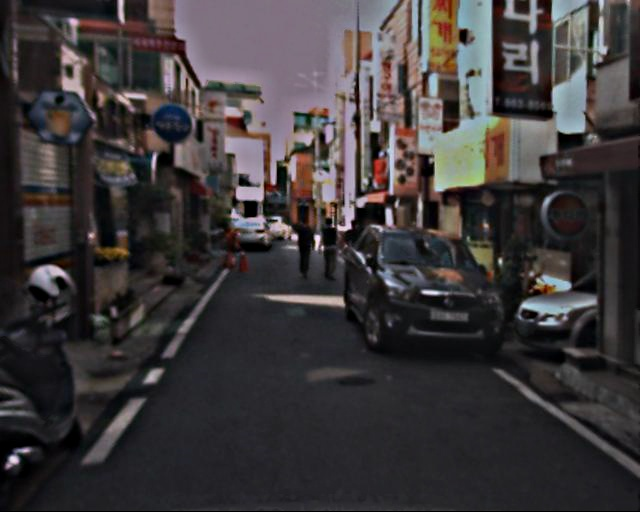person: (291, 217, 317, 280), (341, 219, 367, 282), (316, 217, 341, 279)
